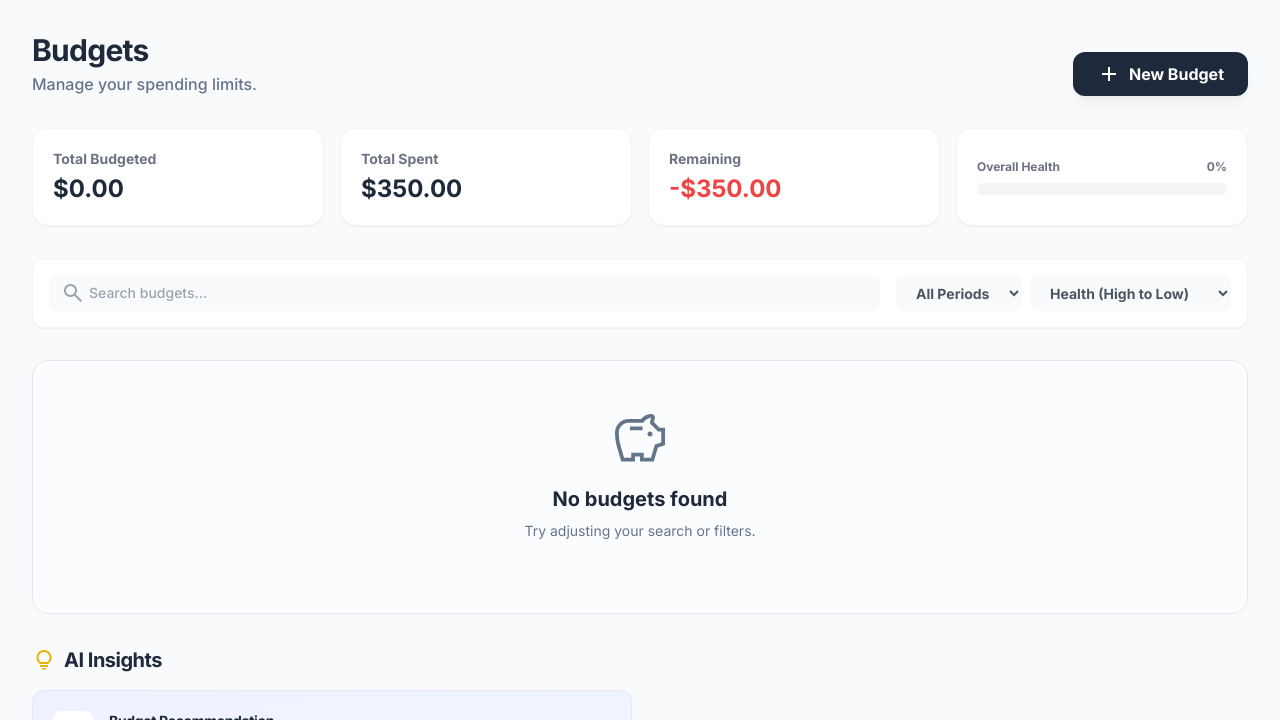
Budget Management Flow › successfully creates a budget and adds it to the list
This screenshot has width=1280, height=720.
Expected: the text "No budgets found" is shown, x1=552 y1=487 x2=727 y2=511
# Open Modal
Click the button "New Budget" at (1160, 74), box x1=1073 y1=52 x2=1248 y2=96
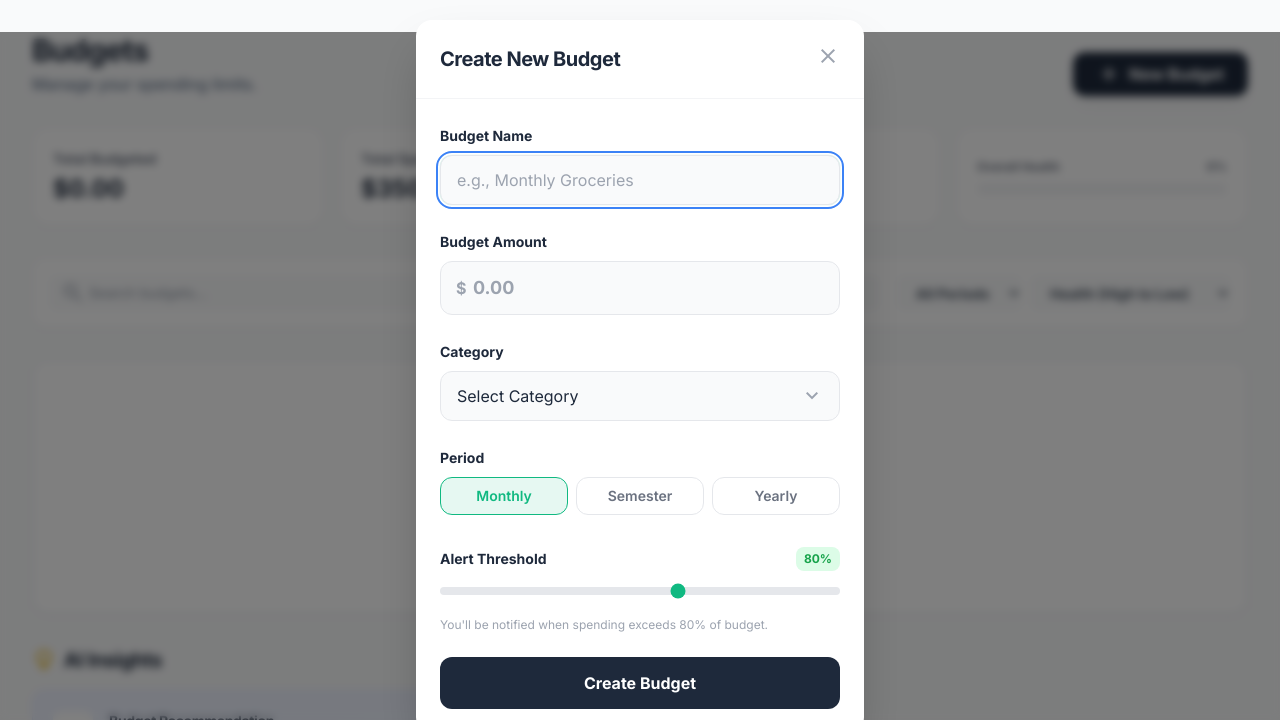
Type "Monthly Groceries" into the field labelled "Budget Name" at (640, 180), box x1=440 y1=154 x2=840 y2=204
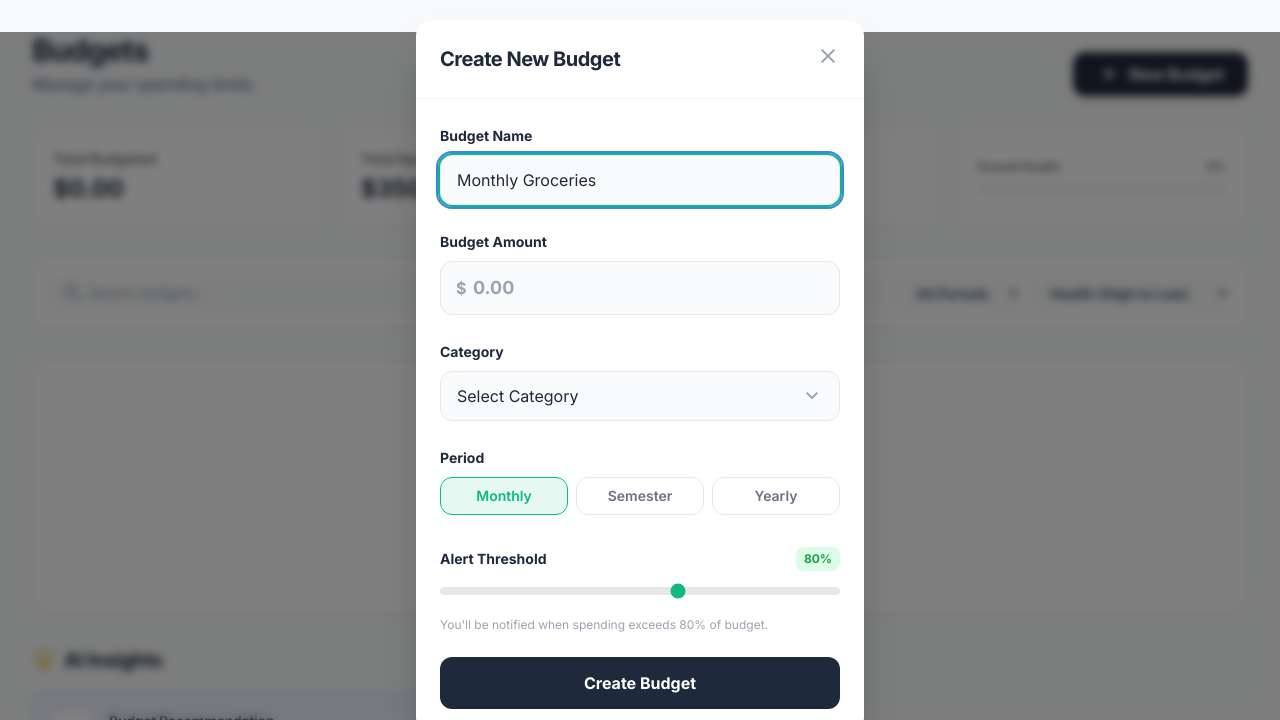
Type "500" into the number field labelled "Budget Amount" at (640, 288), box x1=440 y1=260 x2=840 y2=314
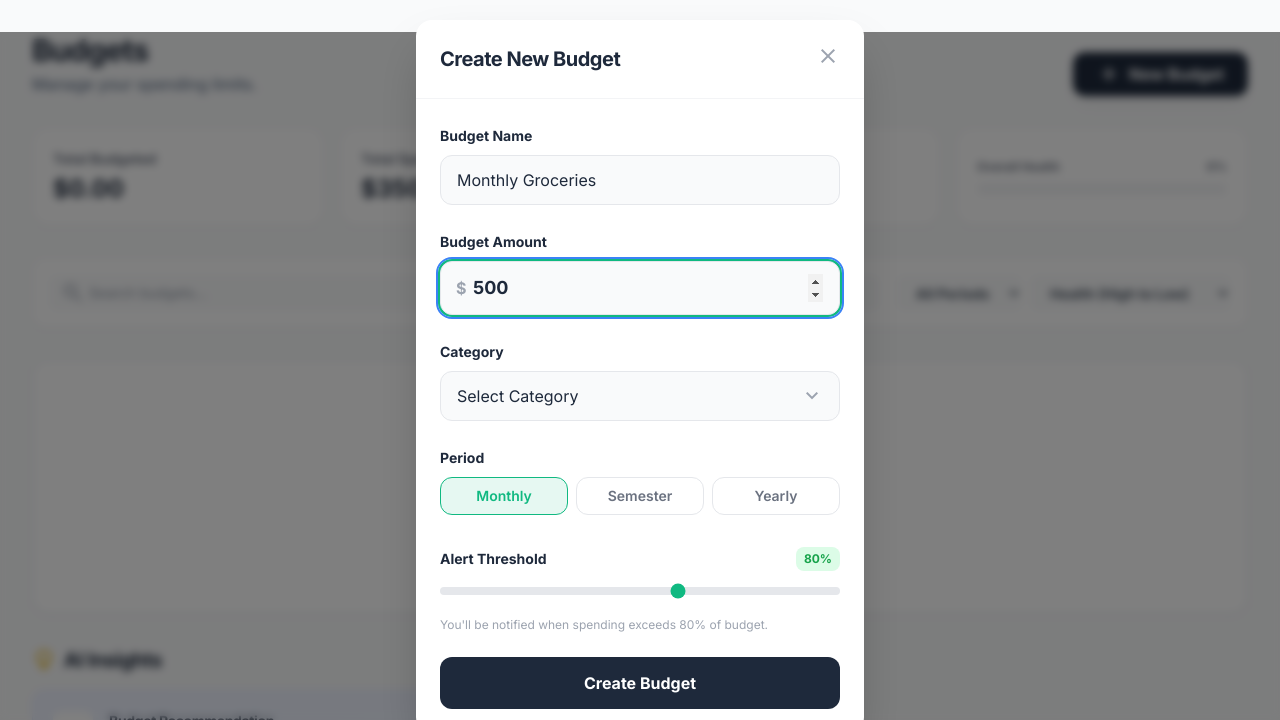
Select "Food & Dining" in the dropdown labelled "Category" at (640, 396), box x1=440 y1=370 x2=840 y2=420
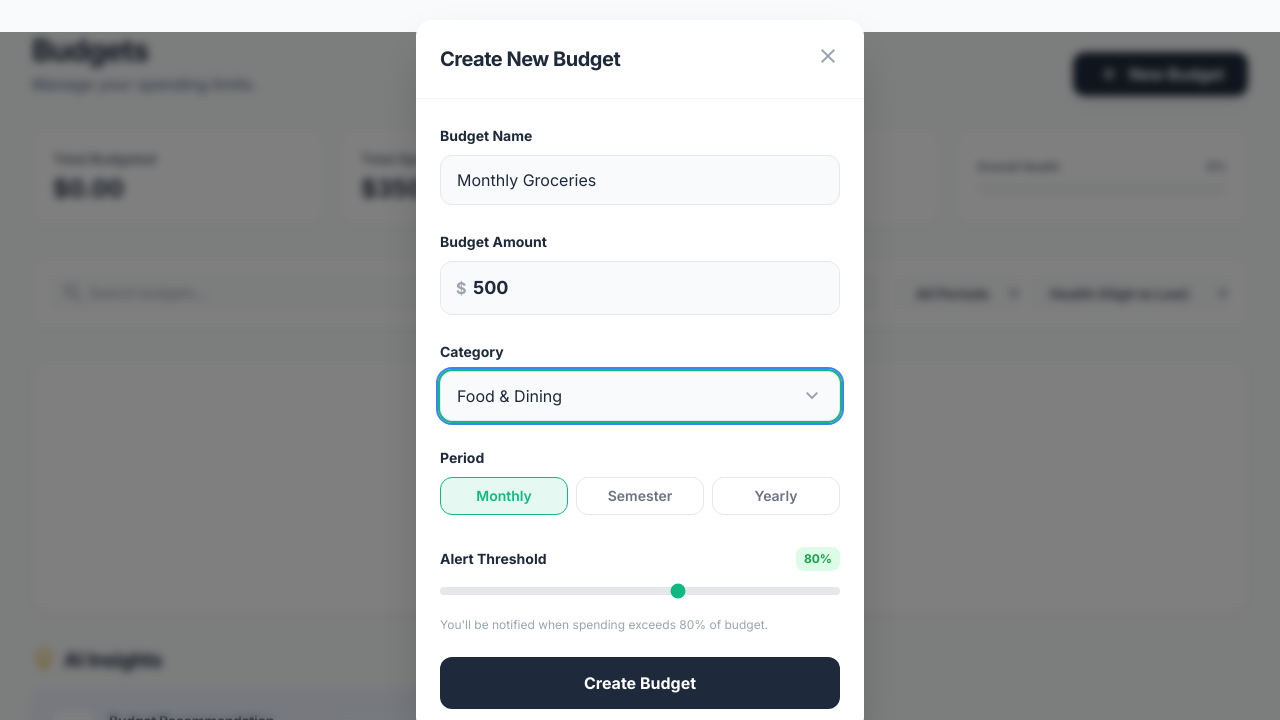
# 5. Submit
Click the button "Create Budget" at (640, 682), box x1=440 y1=656 x2=840 y2=708
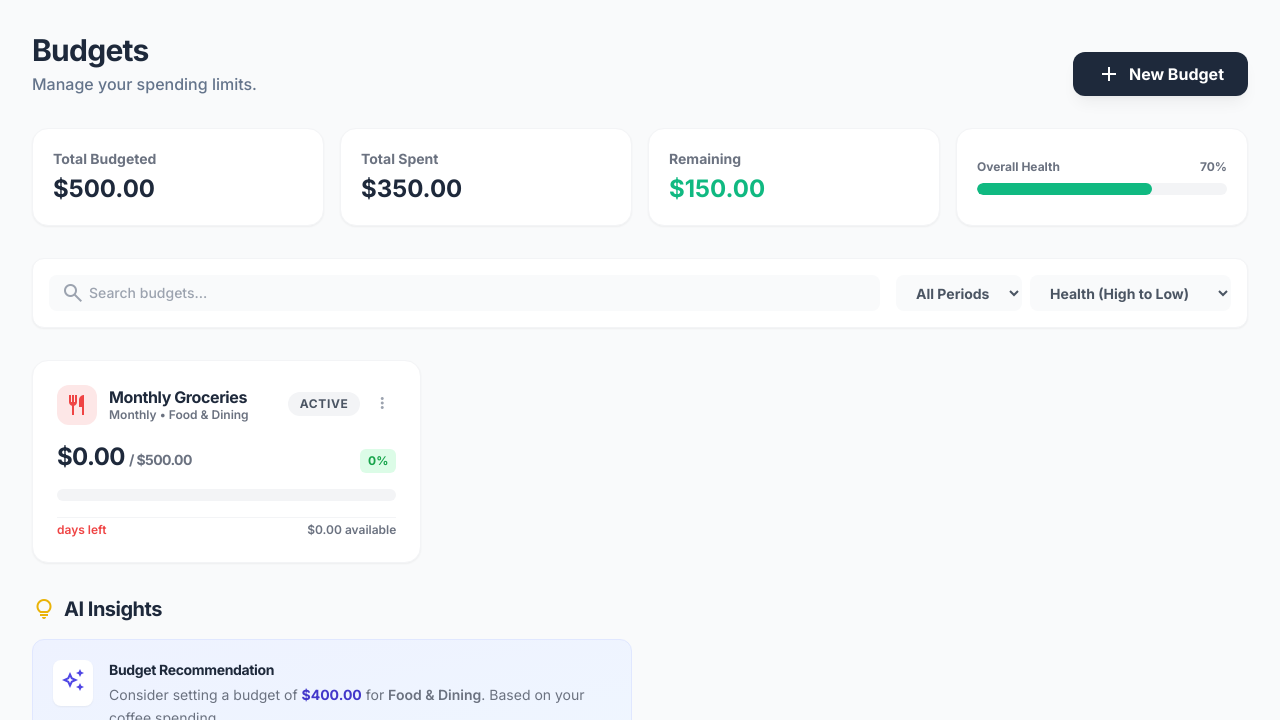
Expected: the heading "Monthly Groceries" is shown, x1=109 y1=387 x2=249 y2=407
Expected: the text "$500.00" is shown, x1=53 y1=174 x2=155 y2=203
